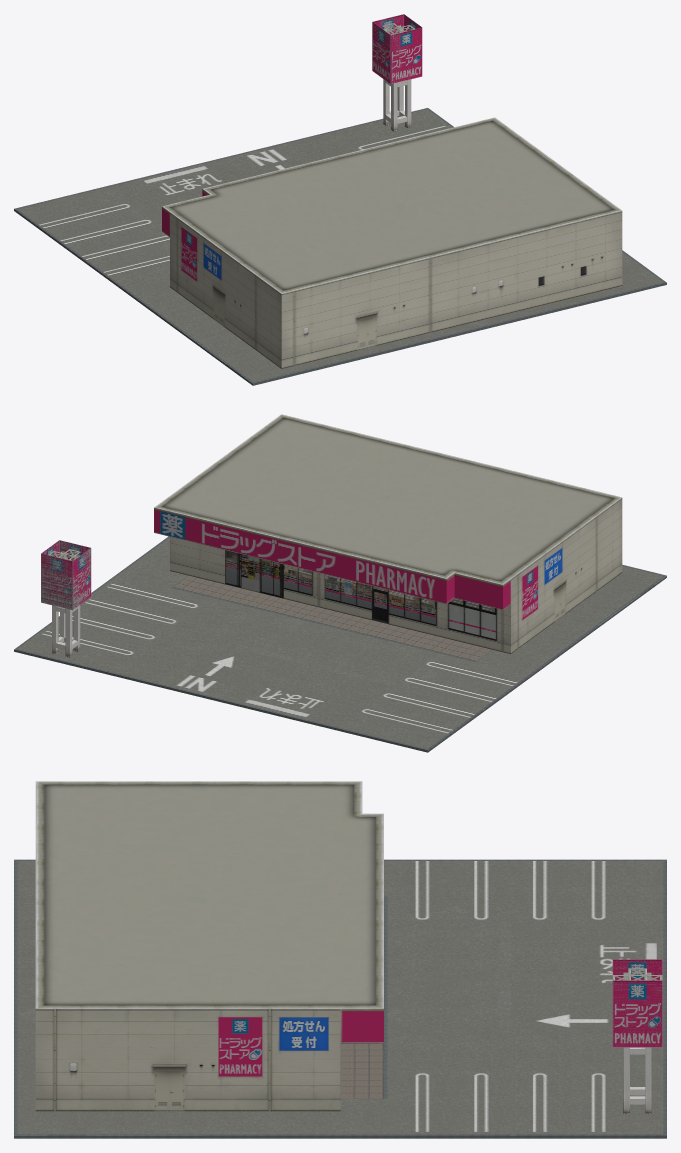
File: DrugStore.fbx
3 views of the same model, one above another, from view 1: azimuth 30°, elevation 25°; view 2: azimuth 150°, elevation 25°; view 3: azimuth 270°, elevation 25° (orthographic). The views are drawn at different scales.
Visible parts, largest first — view 1: 100_DrugStore, 000_Site_Drugstore, 300_Signboard_Drugstore; view 2: 100_DrugStore, 000_Site_Drugstore, 300_Signboard_Drugstore; view 3: 100_DrugStore, 000_Site_Drugstore, 300_Signboard_Drugstore.
Part boxes in pixels (box(x1,y1,x2,y2)): 100_DrugStore: box(162, 117, 622, 368); 000_Site_Drugstore: box(14, 108, 666, 385); 300_Signboard_Drugstore: box(372, 14, 422, 131); 100_DrugStore: box(154, 414, 622, 653); 000_Site_Drugstore: box(14, 536, 666, 752); 300_Signboard_Drugstore: box(41, 540, 91, 657); 100_DrugStore: box(35, 781, 383, 1111); 000_Site_Drugstore: box(14, 859, 666, 1138); 300_Signboard_Drugstore: box(612, 959, 662, 1113).
Size of the model in its own units: 30 by 7.15 by 30.
